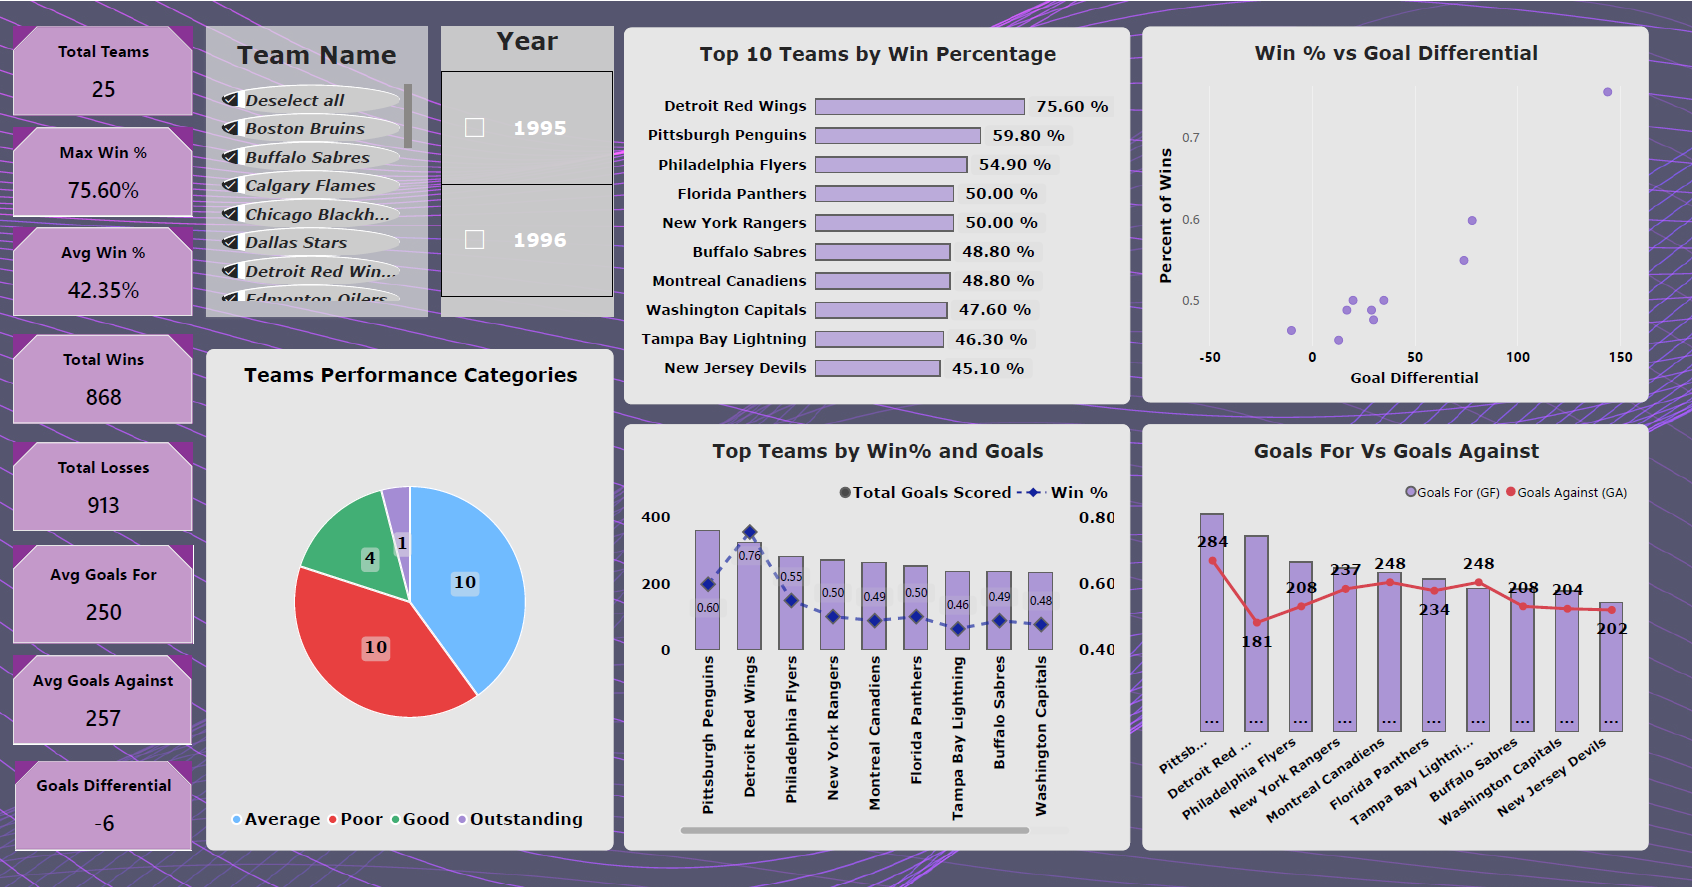

Layout of this report page (visuals, bound fields, positions):
{"tool":"powerbi","page":{"name":"Page 1","canvas":[1920,1080],"ordinal":0},"visuals":[{"type":"cardVisual","title":"Total Teams","fields":{"Data":["Count(Teams.Team Name)"]},"box":[12.9,25.8,188.2,93.4],"z":0},{"type":"cardVisual","title":"Total Teams","fields":{"Data":["Max(Teams.Win %)"]},"box":[12.9,132.3,188.2,93.4],"z":1000},{"type":"cardVisual","title":"Total Teams","fields":{"Data":["Avg(Teams.Win %)"]},"box":[12.9,237.1,188.2,93.4],"z":2000},{"type":"cardVisual","title":"Total Teams","fields":{"Data":["Sum(Teams.Wins)"]},"box":[12.9,350,188.2,93.4],"z":3000},{"type":"cardVisual","title":"Total Teams","fields":{"Data":["Sum(Teams.Losses)"]},"box":[12.9,462.9,188.2,93.4],"z":4000},{"type":"cardVisual","title":"Total Teams","fields":{"Data":["Avg(Teams.Goals For (GF))"]},"box":[12.9,571,188.7,103.2],"z":5000},{"type":"cardVisual","title":"Total Teams","fields":{"Data":["Avg(Teams.Goals Against (GA))"]},"box":[12.9,687.1,187.1,93.5],"z":6000},{"type":"cardVisual","title":"Total Teams","fields":{"Data":["Avg(Teams.Goals Differential)"]},"box":[14.5,798.4,185.5,93.5],"z":7000},{"type":"barChart","title":"Top 10 Teams by Win Percentage","fields":{"Category":["Teams.Team Name"],"Y":["Avg(Teams.Win %)"]},"box":[654.8,27.4,532.3,395.2],"z":8000},{"type":"scatterChart","title":"Win % vs Goal Differential","fields":{"X":["Teams.Goals Differential"],"Y":["Teams.Win %"]},"box":[1200,25.8,532.3,395.2],"z":9000},{"type":"pieChart","title":"Teams Performance Categories","fields":{"Category":["Teams.Performance Category"],"Y":["Count(Teams.Team Name)"]},"box":[216.1,364.5,427.4,527.4],"z":10000},{"type":"listSlicer","fields":{"Values":["Teams.Team Name"]},"box":[216.1,25.8,232.3,304.8],"z":11000},{"type":"lineClusteredColumnComboChart","title":"Goals For Vs Goals Against","fields":{"Category":["Teams.Team Name"],"Y":["Sum(Teams.Goals For (GF))"],"Y2":["Sum(Teams.Goals Against (GA))"]},"box":[1200,443.5,532.3,448.4],"z":12000},{"type":"advancedSlicerVisual","fields":{"Values":["Teams.Year"]},"box":[462.9,25.8,180.6,304.8],"z":13000},{"type":"lineStackedColumnComboChart","title":"Top Teams by Win% and Goals","fields":{"Category":["Teams.Team Name"],"Y":["Sum(Teams.Goals For (GF))"],"Y2":["Avg(Teams.Win %)"]},"box":[654.8,443.5,532.3,448.4],"z":14000}]}

Visuals, with their boxes on the page's 1920x1080 design canvas (x1, y1, x2, y2). These are canvas units, not pixel positions in the 1692x887 screenshot, which may show the page scaled, cropped or inside an application window:
"Total Teams" cardVisual: box=[13, 26, 201, 119]
"Total Teams" cardVisual: box=[13, 132, 201, 226]
"Total Teams" cardVisual: box=[13, 237, 201, 330]
"Total Teams" cardVisual: box=[13, 350, 201, 443]
"Total Teams" cardVisual: box=[13, 463, 201, 556]
"Total Teams" cardVisual: box=[13, 571, 202, 674]
"Total Teams" cardVisual: box=[13, 687, 200, 781]
"Total Teams" cardVisual: box=[14, 798, 200, 892]
"Top 10 Teams by Win Percentage" barChart: box=[655, 27, 1187, 423]
"Win % vs Goal Differential" scatterChart: box=[1200, 26, 1732, 421]
"Teams Performance Categories" pieChart: box=[216, 364, 644, 892]
listSlicer - Teams.Team Name: box=[216, 26, 448, 331]
"Goals For Vs Goals Against" lineClusteredColumnComboChart: box=[1200, 444, 1732, 892]
advancedSlicerVisual - Teams.Year: box=[463, 26, 644, 331]
"Top Teams by Win% and Goals" lineStackedColumnComboChart: box=[655, 444, 1187, 892]
